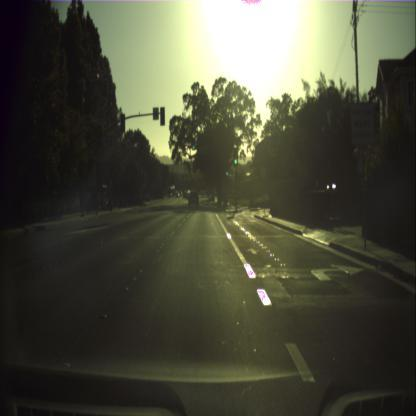Green: (233, 147, 238, 165), (192, 138, 195, 150), (225, 166, 228, 176)
